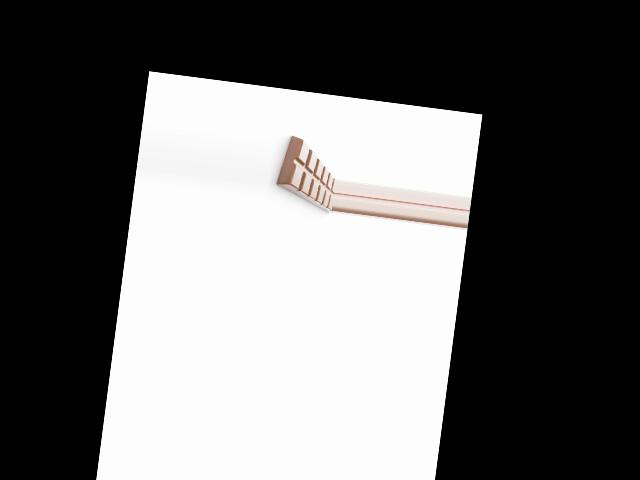chocolate: (271, 133, 339, 217)
